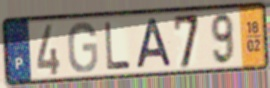4: (35, 22, 62, 78)
7: (173, 13, 201, 70)
9: (208, 11, 236, 67)
A: (133, 17, 175, 70)
G: (66, 20, 100, 75)
L: (103, 20, 133, 71)
